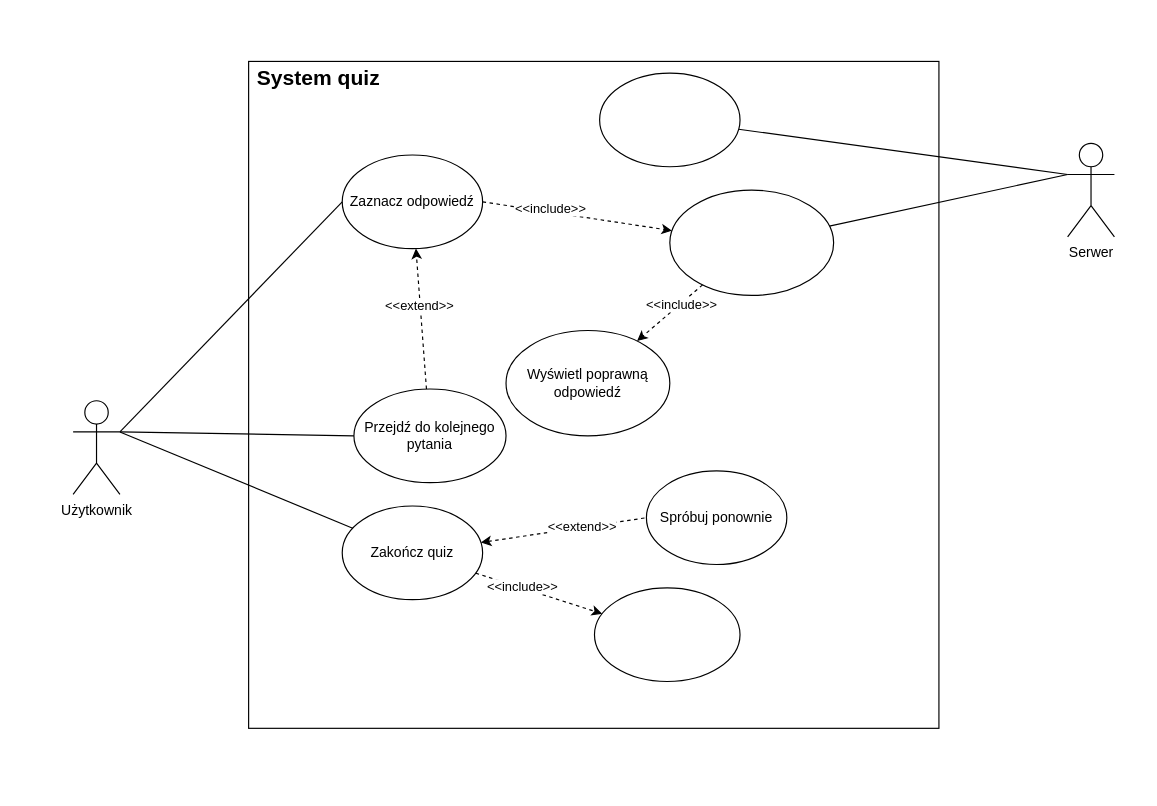
The diagram is 1157 pixels wide and 806 high, and some of its shapes have lost their labels. Here are the shapes that lost their labels. From the top down, the box of each, then its label:
(598, 72, 740, 167): Wygeneruj zestaw pytań
(669, 189, 834, 295): Sprawdź poprawność odpowiedzi
(593, 587, 740, 682): Wyświetl wynik quizu
